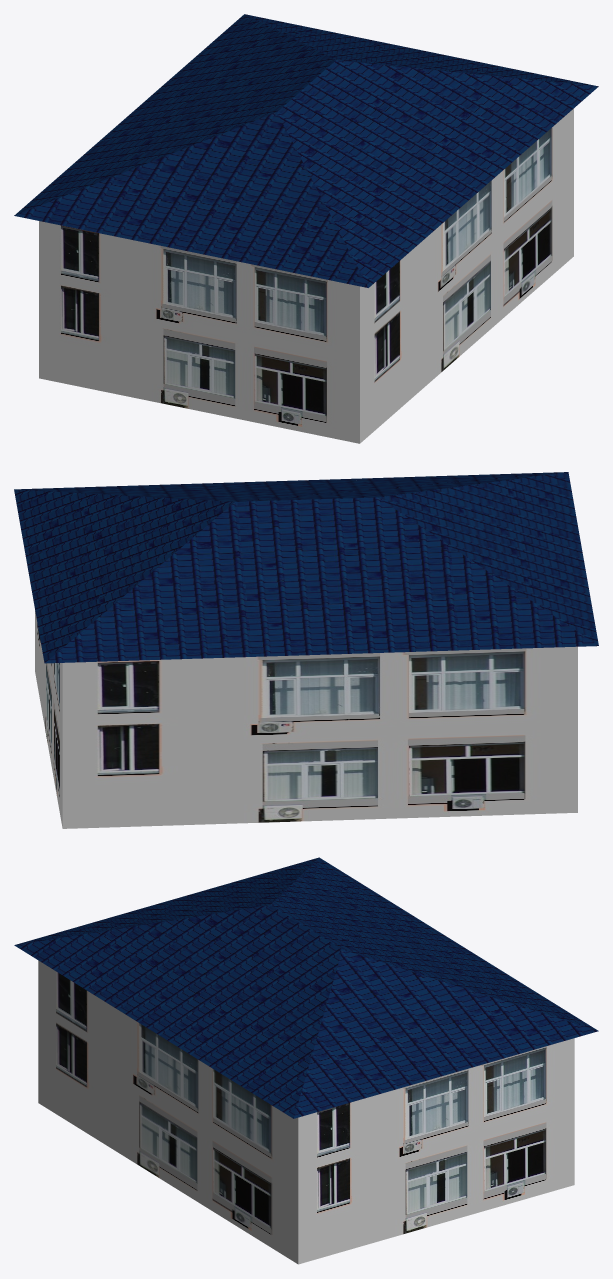
3 renders of one model, top to bottom at view 1: azimuth 30°, elevation 25°; view 2: azimuth 150°, elevation 25°; view 3: azimuth 270°, elevation 25°, orthographic. The views are drawn at different scales.
Visible parts, largest first — view 1: CityEngineMaterial_6_m, CityEngineMaterial_9_m; view 2: CityEngineMaterial_6_m, CityEngineMaterial_9_m; view 3: CityEngineMaterial_9_m, CityEngineMaterial_6_m.
Part boxes in pixels (x1,y1,x2,y2): CityEngineMaterial_6_m: (14,14,598,287); CityEngineMaterial_9_m: (39,108,573,443); CityEngineMaterial_6_m: (14,472,598,663); CityEngineMaterial_9_m: (35,610,577,828); CityEngineMaterial_9_m: (38,960,574,1264); CityEngineMaterial_6_m: (14,857,598,1118).
Bounding box in the file's own units: 33.16 × 12.82 × 31.35.
